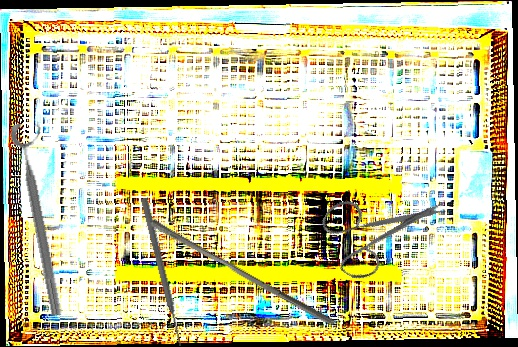Fixation Ring: (8, 119, 79, 318)
Iris Scissors: (304, 153, 450, 301)
Pusher: (145, 217, 341, 328), (138, 197, 186, 347)
